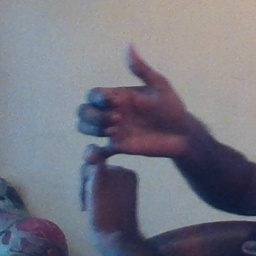S: (69, 39, 197, 211)
